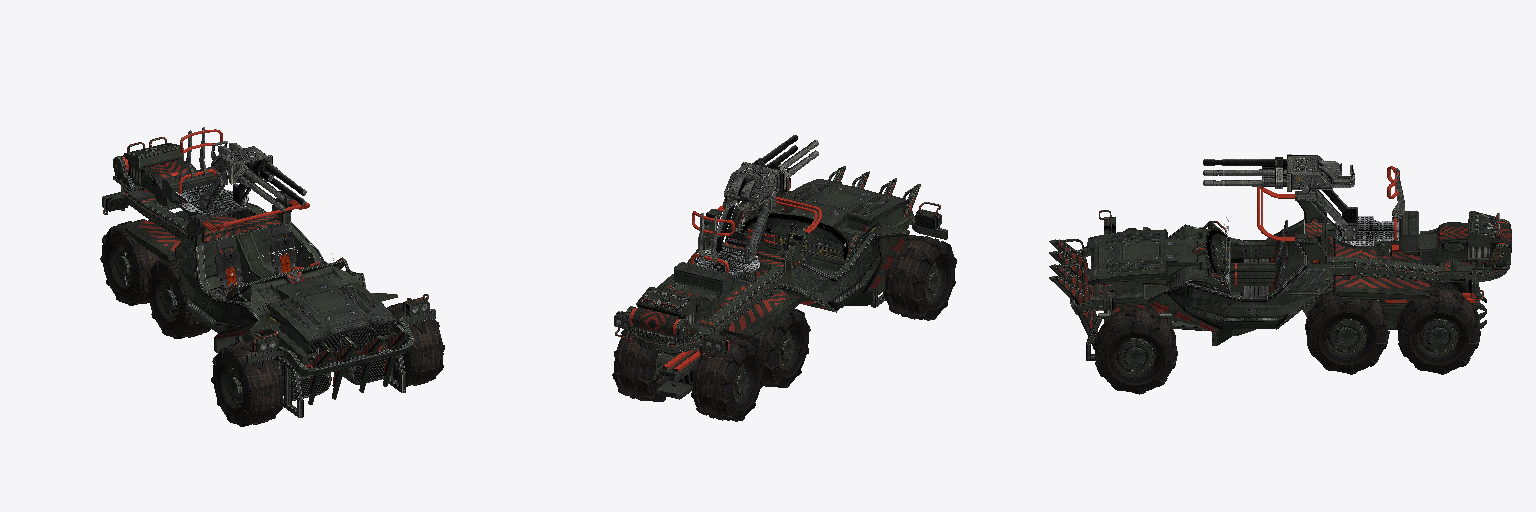
The picture shows the model from 3 angles: view 1: azimuth 30°, elevation 25°; view 2: azimuth 150°, elevation 25°; view 3: azimuth 270°, elevation 25°; orthographic projection.
Bounding box in the file's own units: 10.01 × 9.01 × 20.22.
Materials: 3 (3 with a texture image).